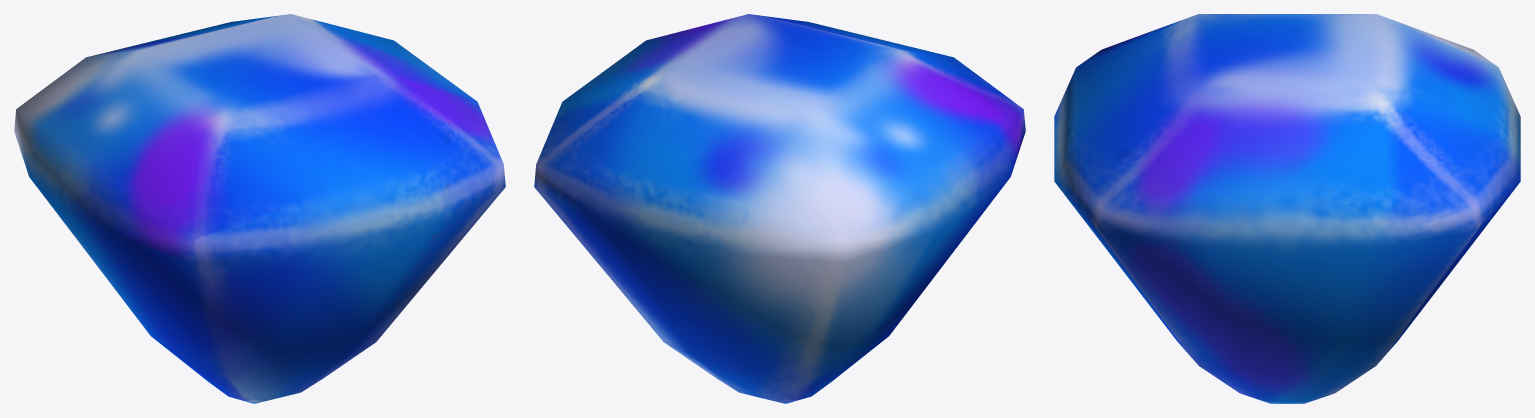
File: diamond.fbx
3 views of the same model, side by side, from view 1: azimuth 30°, elevation 25°; view 2: azimuth 150°, elevation 25°; view 3: azimuth 270°, elevation 25° (orthographic). The views are drawn at different scales.
Parts seen in each view (by area): view 1: Cube.003; view 2: Cube.003; view 3: Cube.003.
Part boxes in pixels (<box>): Cube.003: <box>14,14,505,403</box>; Cube.003: <box>534,14,1025,403</box>; Cube.003: <box>1054,14,1520,403</box>.
Bounding box in the file's own units: 0.0922 × 0.0754 × 0.0922.
